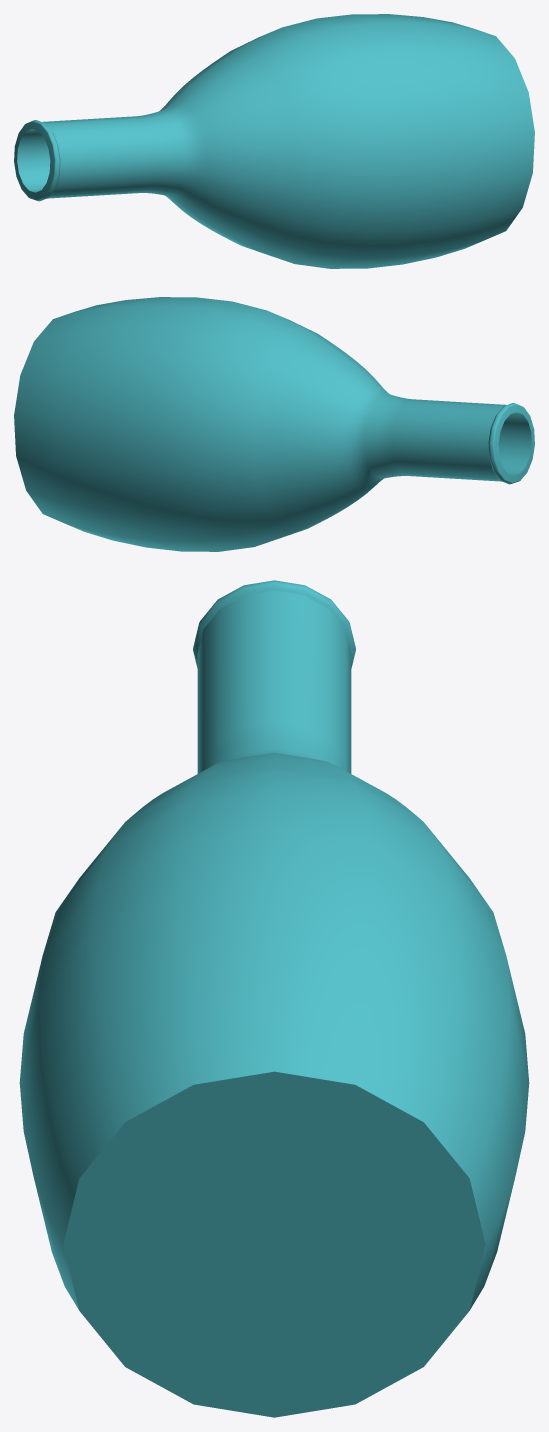
The model's file is fdas.fbx.
3 views of the same model, one above another, from view 1: azimuth 30°, elevation 25°; view 2: azimuth 150°, elevation 25°; view 3: azimuth 270°, elevation 25° (orthographic). The views are drawn at different scales.
Parts seen in each view (by area): view 1: Botella; view 2: Botella; view 3: Botella.
Boxes of the visible parts, box(x1,y1,x2,y2) form: Botella: box(14, 14, 534, 268); Botella: box(14, 297, 534, 551); Botella: box(19, 580, 529, 1417).
Bounding box in the file's own units: 0.1975 × 0.0966 × 0.0932.
